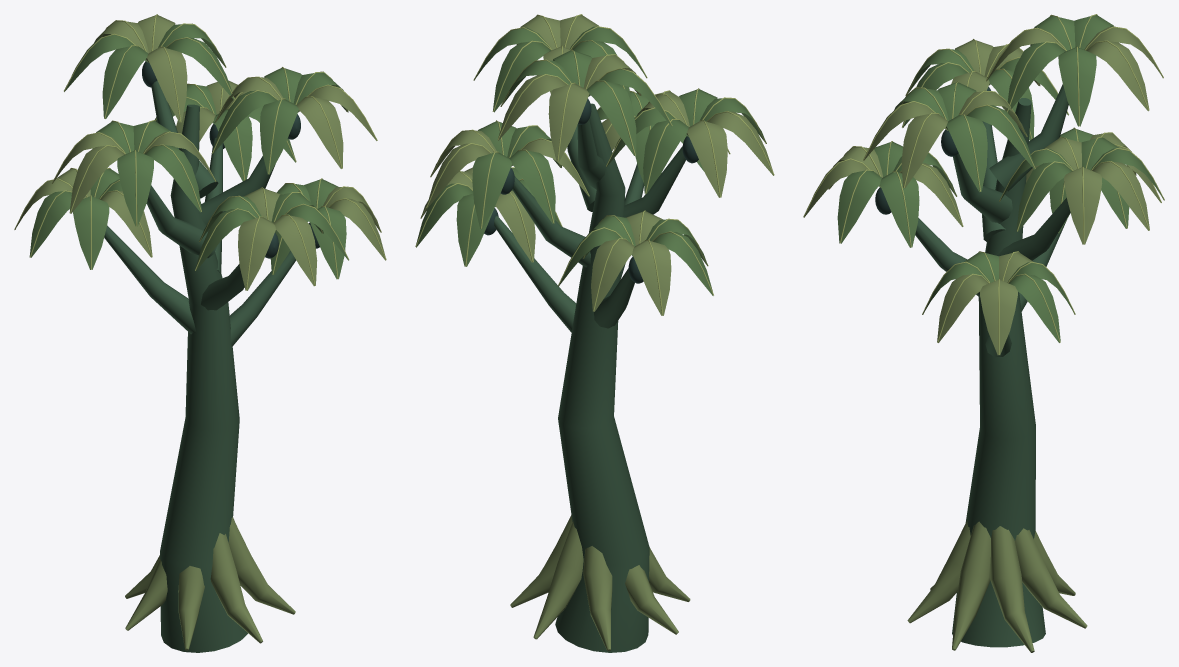
The model's file is landmark_xylo.glb.
3 renders of one model, left to right at view 1: azimuth 30°, elevation 25°; view 2: azimuth 150°, elevation 25°; view 3: azimuth 270°, elevation 25°, orthographic. The views are drawn at different scales.
Parts seen in each view (by area): view 1: landmark_xylo; view 2: landmark_xylo; view 3: landmark_xylo.
Boxes of the visible parts, <box> form: landmark_xylo: <box>14,14,386,652</box>; landmark_xylo: <box>415,14,774,652</box>; landmark_xylo: <box>803,14,1164,652</box>.
Size of the model in its own units: 29.92 by 50.78 by 27.73.
